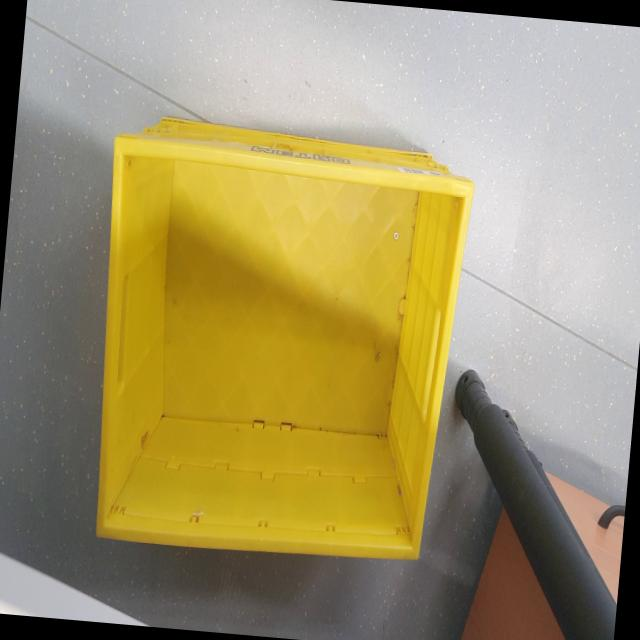box: (70, 60, 488, 610)
